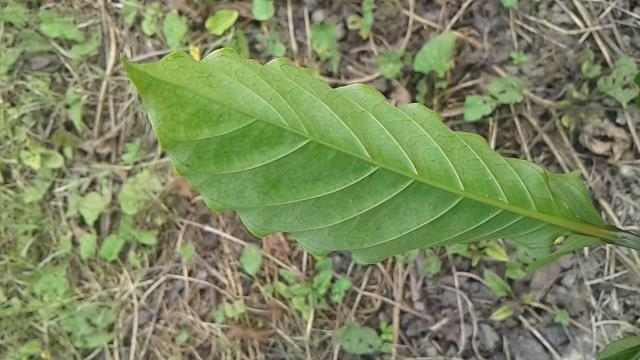healthy: (121, 48, 580, 262)
